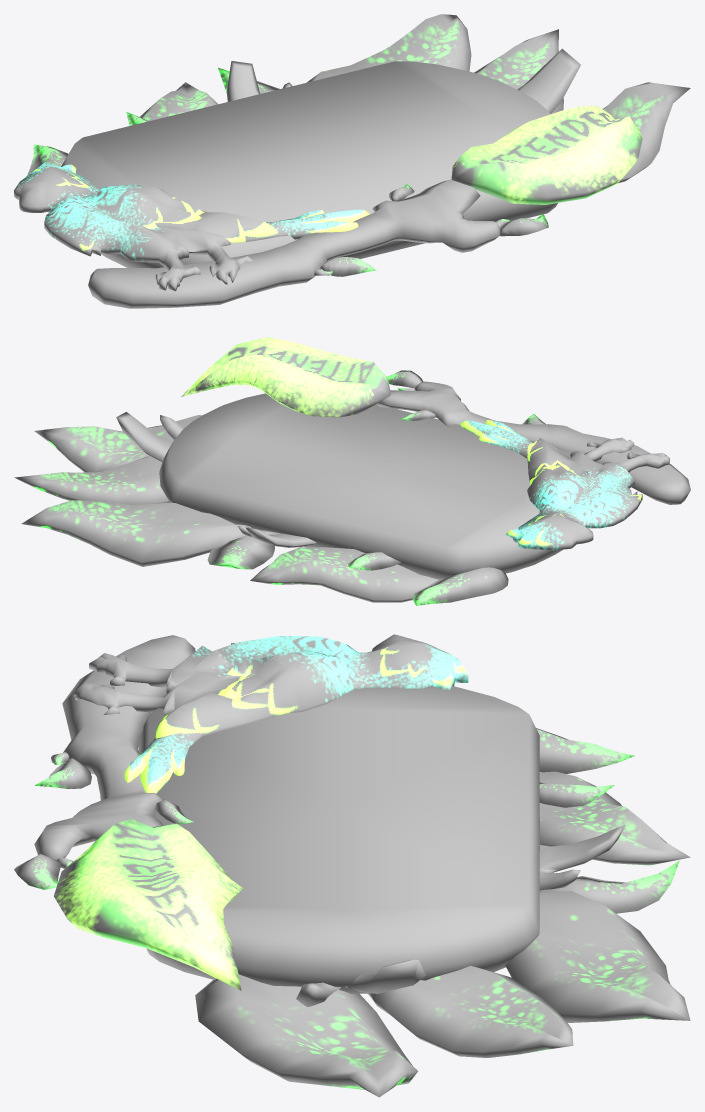
The model's file is Attendee.fbx.
3 views of the same model, one above another, from view 1: azimuth 30°, elevation 25°; view 2: azimuth 150°, elevation 25°; view 3: azimuth 270°, elevation 25° (orthographic). The views are drawn at different scales.
Parts seen in each view (by area): view 1: Attendee; view 2: Attendee; view 3: Attendee.
Part boxes in pixels (left/top/right/bottom): Attendee: left=14, top=14, right=690, bottom=308; Attendee: left=14, top=337, right=690, bottom=605; Attendee: left=14, top=634, right=690, bottom=1097.
Bounding box in the file's own units: 0.5175 × 0.0791 × 0.3557.
